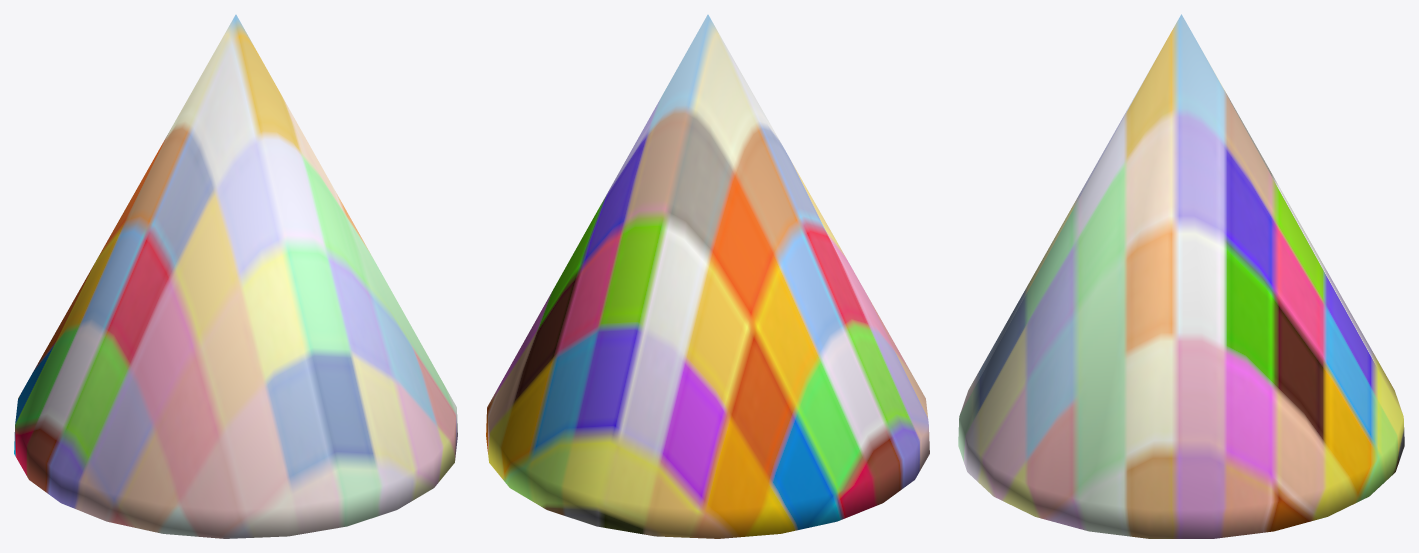
File: Coni.fbx
3 views of the same model, side by side, from view 1: azimuth 30°, elevation 25°; view 2: azimuth 150°, elevation 25°; view 3: azimuth 270°, elevation 25° (orthographic).
Visible parts, largest first — view 1: Cone; view 2: Cone; view 3: Cone.
Part boxes in pixels (<box>): Cone: <box>14,14,457,538</box>; Cone: <box>486,14,929,538</box>; Cone: <box>958,14,1404,538</box>.
Size of the model in its own units: 2.14 by 2.37 by 2.16.
